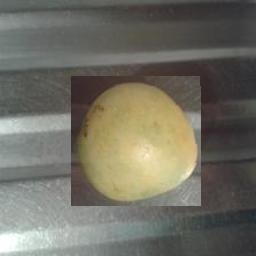Mango Semifresh: (72, 76, 202, 206)
